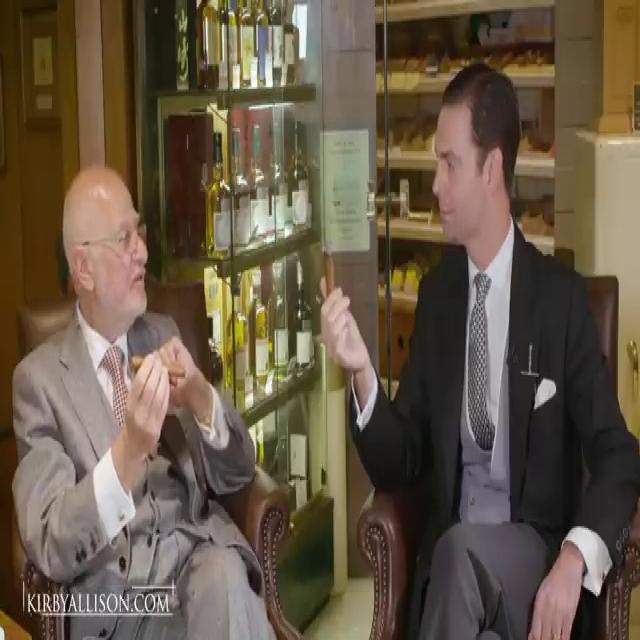Smooking: (125, 354, 188, 382), (315, 249, 344, 297)
